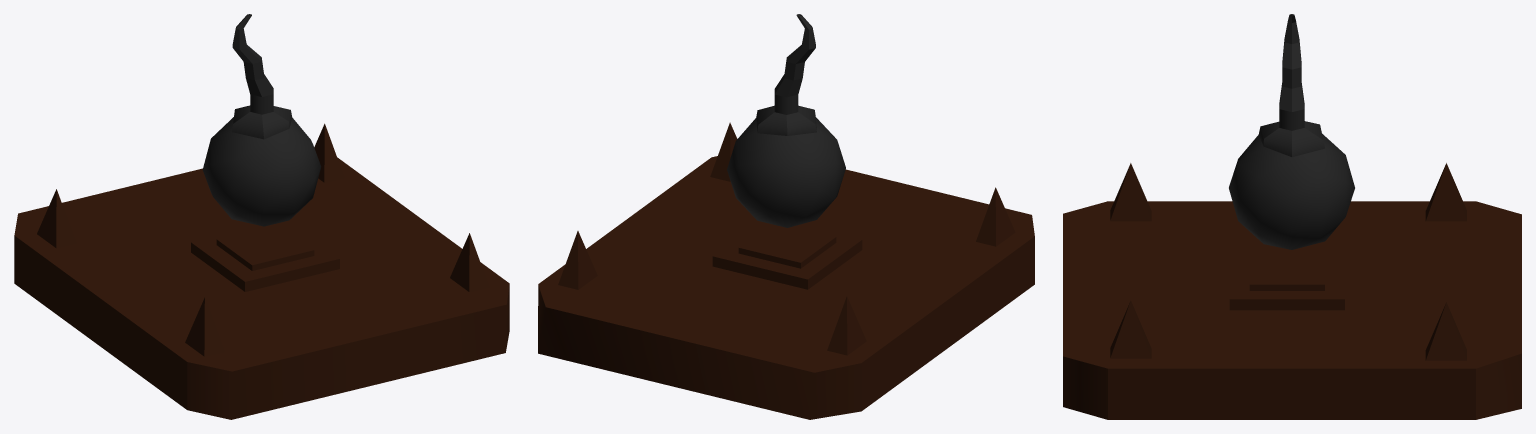
The model's file is Trampa_inzendiaria1aversion.FBX.
3 renders of one model, left to right at view 1: azimuth 30°, elevation 25°; view 2: azimuth 150°, elevation 25°; view 3: azimuth 270°, elevation 25°, orthographic. The views are drawn at different scales.
Visible parts, largest first — view 1: BaseDescubierta, Bomba; view 2: BaseDescubierta, Bomba; view 3: BaseDescubierta, Bomba.
Boxes of the visible parts, bbox=[...] form: BaseDescubierta: bbox=[14, 123, 509, 419]; Bomba: bbox=[202, 14, 321, 226]; BaseDescubierta: bbox=[538, 122, 1034, 419]; Bomba: bbox=[727, 14, 845, 227]; BaseDescubierta: bbox=[1063, 163, 1521, 419]; Bomba: bbox=[1229, 14, 1354, 249].
Size of the model in its own units: 140 by 123 by 162.
